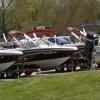Boat: (5, 19, 77, 74)
